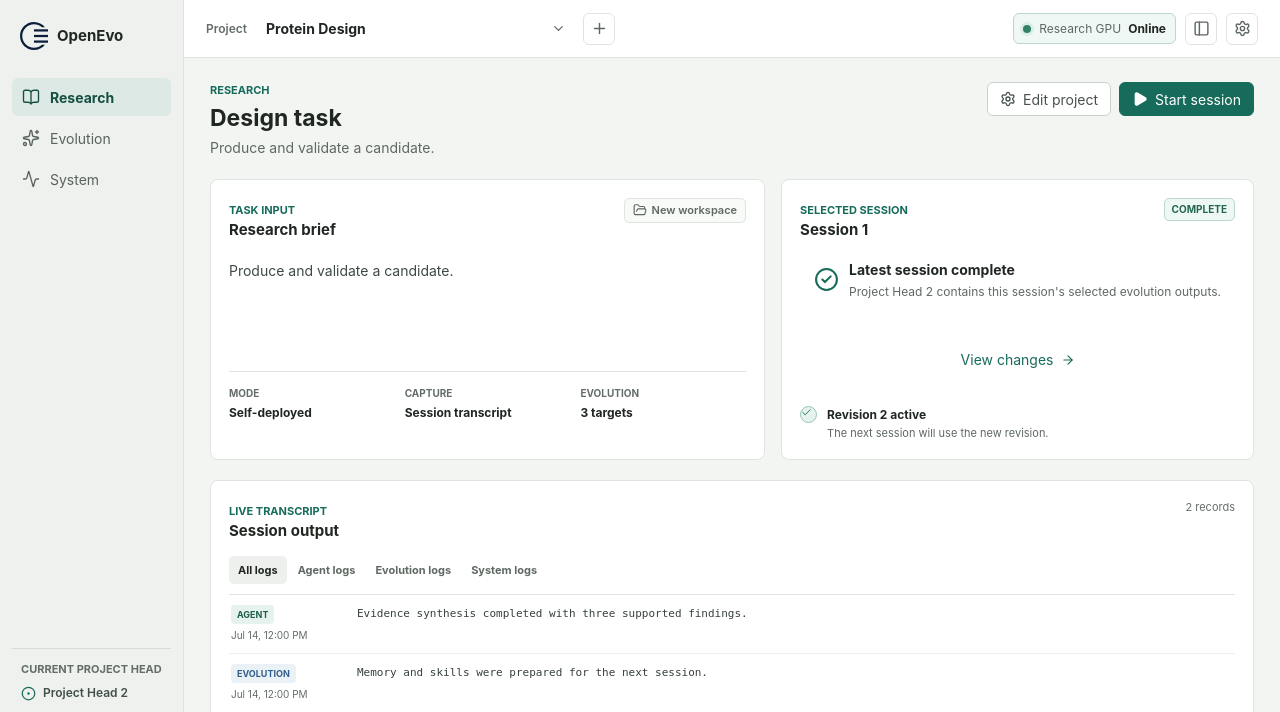
Test case: DesktopProductApp › shows bounded session output and filters agent and evolution records
The width and height of the screenshot is (1280, 712).
Check: the list item is shown, box [800,406,1048,440]
Click the button "Evolution logs": (413, 570) [366,556,460,584]
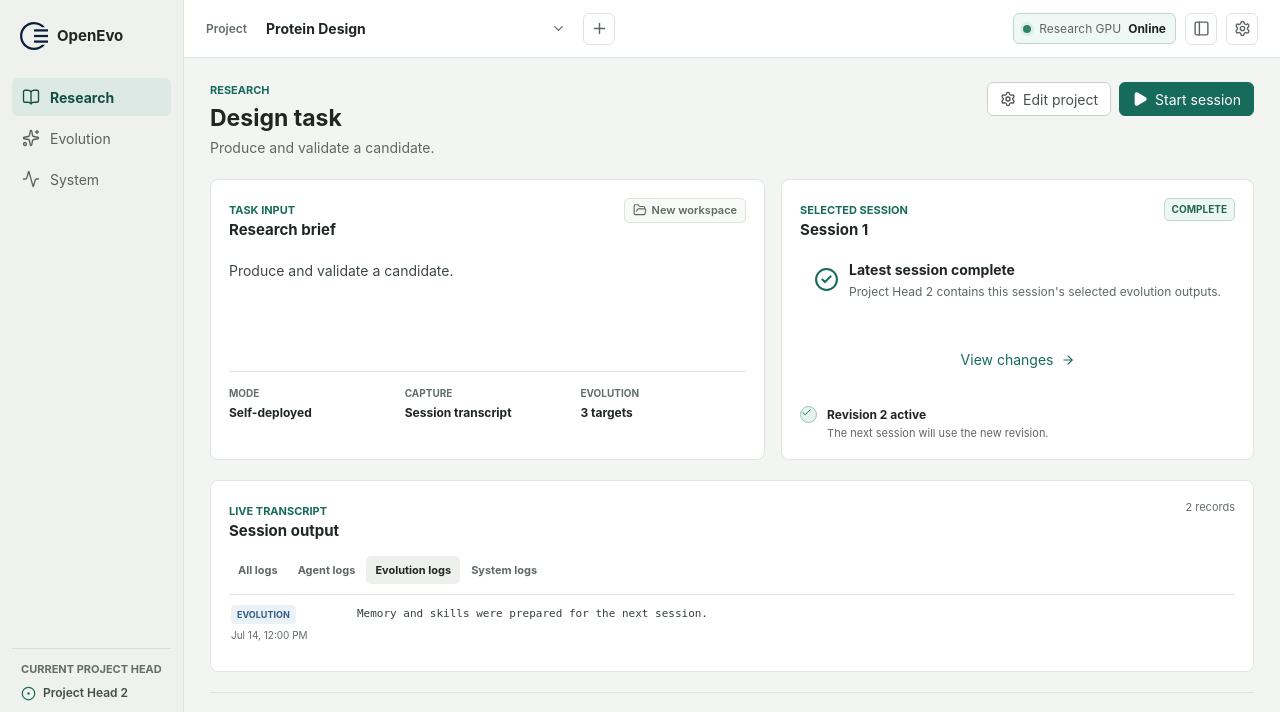
Check: the text "Memory and skills were prepared for the next session." is shown, box [357,607,708,620]
Check: the text "Evidence synthesis completed with three supported findings." is gone
Click the button "Agent logs": (326, 570) [289,556,364,584]
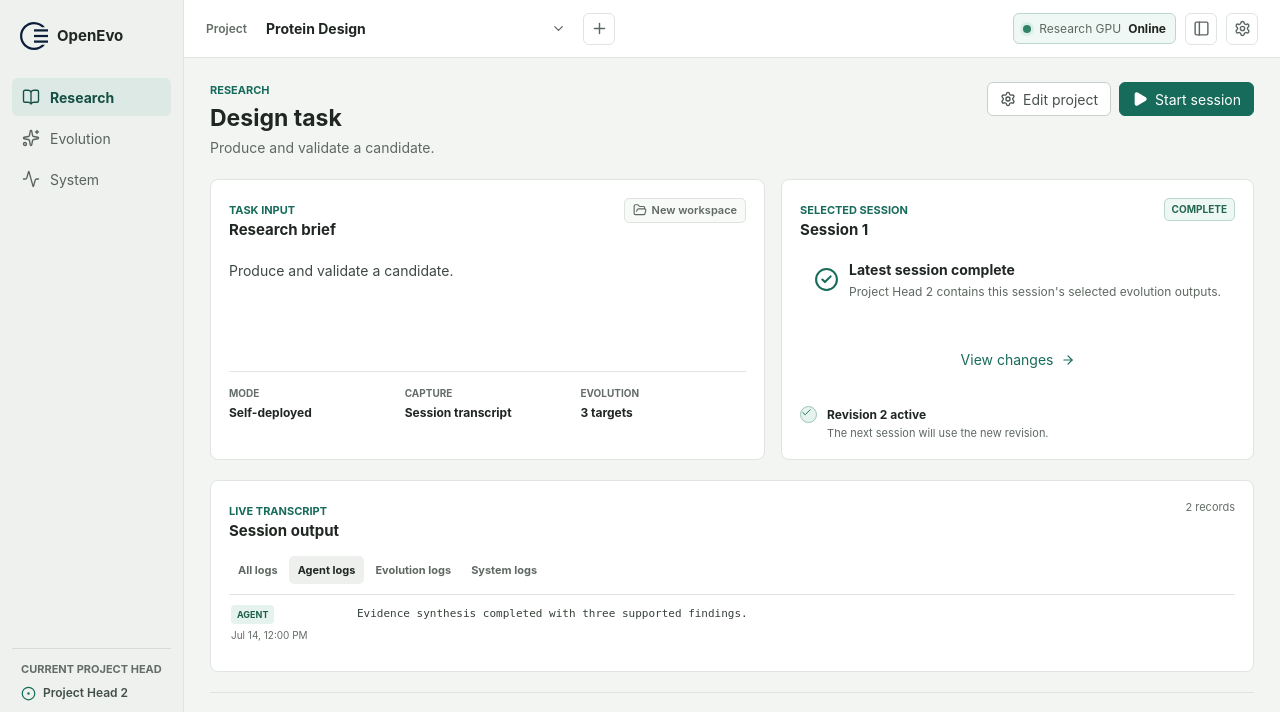
Check: the text "Evidence synthesis completed with three supported findings." is shown, box [357,607,748,620]
Check: the text "Memory and skills were prepared for the next session." is gone
